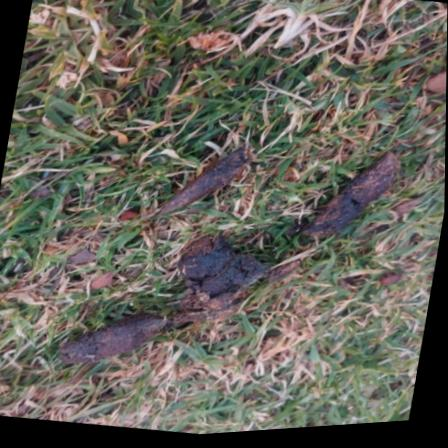dog-poop: (75, 223, 280, 394), (152, 141, 259, 232), (305, 162, 395, 253)
